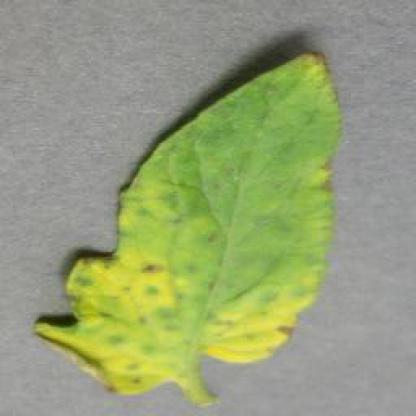bad leaf: (45, 46, 336, 403)
